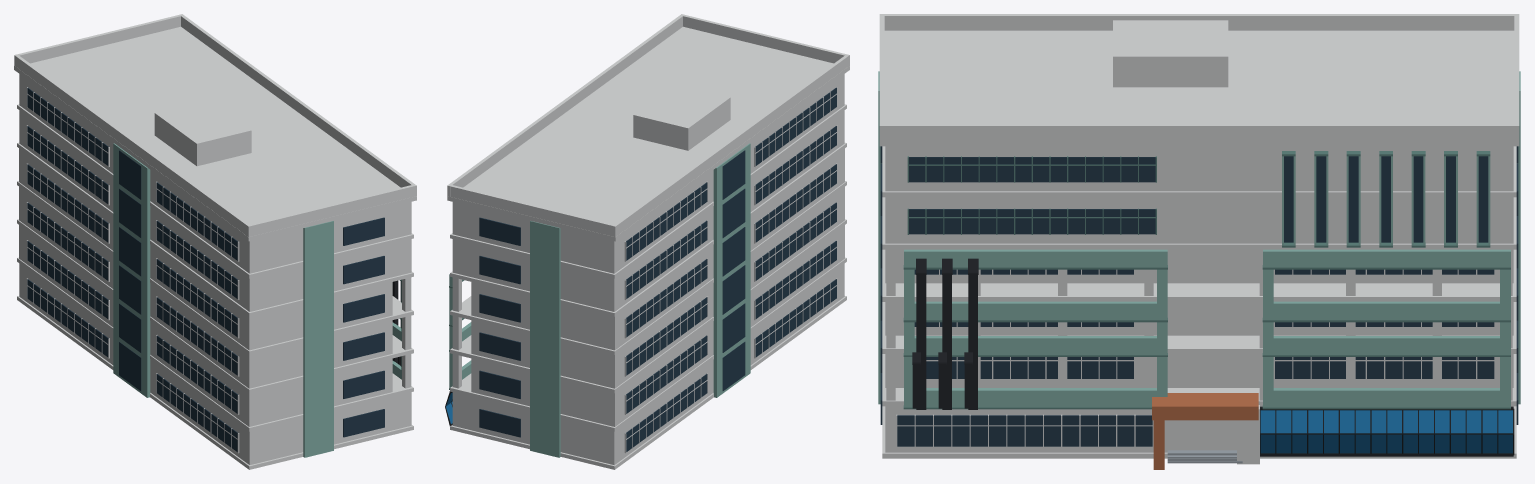
3 views of the same model, side by side, from view 1: azimuth 30°, elevation 25°; view 2: azimuth 150°, elevation 25°; view 3: azimuth 270°, elevation 25° (orthographic). The views are drawn at different scales.
Parts seen in each view (by area): view 1: B32; view 2: B32; view 3: B32.
Boxes of the visible parts, <box> form: B32: <box>14,14,416,469</box>; B32: <box>445,14,849,469</box>; B32: <box>878,14,1520,469</box>.
Bounding box in the file's own units: 20.28 × 26.9 × 44.56.
